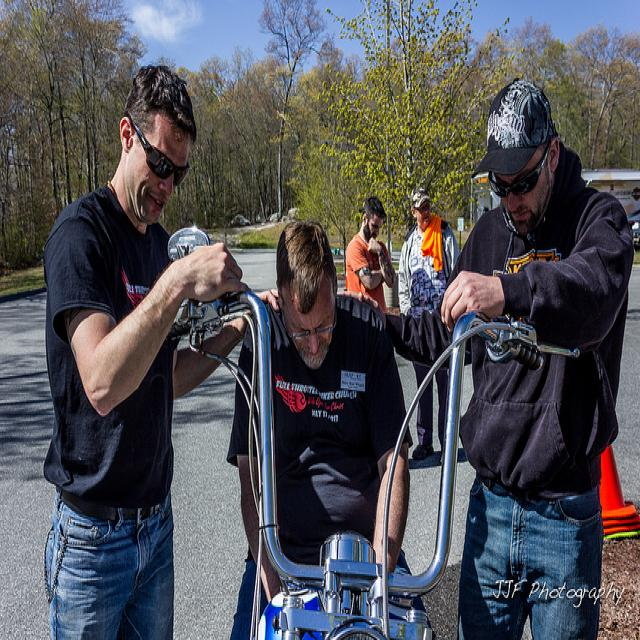motor: (170, 230, 591, 640)
